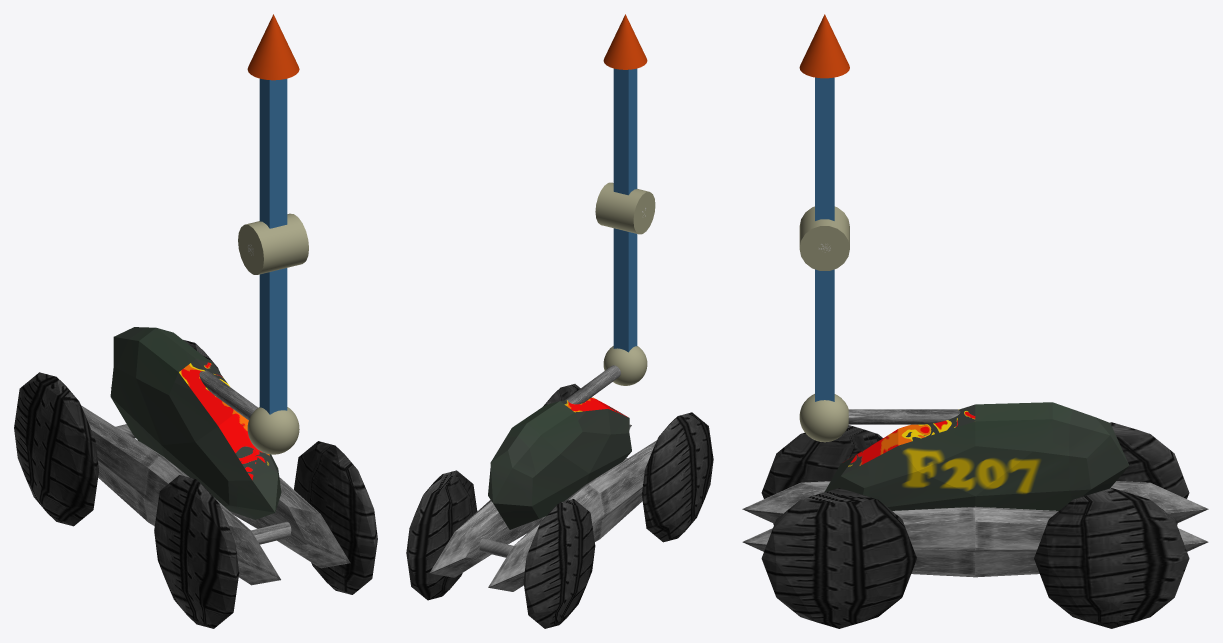
Rendered from MyGru.FBX.
3 renders of one model, left to right at view 1: azimuth 30°, elevation 25°; view 2: azimuth 150°, elevation 25°; view 3: azimuth 270°, elevation 25°, orthographic. The views are drawn at different scales.
Visible parts, largest first — view 1: cabin, back_right_wheel, front_right_wheel, front_left_wheel, right_chassis, trunk2, trunk1, left_chassis, articolation_cylinder, crane_base, hook, support_cylinder (+1 smaller); view 2: cabin, back_right_wheel, front_right_wheel, back_left_wheel, right_chassis, left_chassis, trunk2, trunk1, articolation_cylinder, hook, crane_base, support_cylinder (+1 smaller); view 3: cabin, back_left_wheel, front_left_wheel, left_chassis, front_right_wheel, back_right_wheel, right_chassis, trunk2, articolation_cylinder, trunk1, crane_base, hook (+1 smaller).
Part boxes in pixels (bbox=[...]): cabin: bbox=[110, 327, 281, 519]; back_right_wheel: bbox=[14, 372, 98, 526]; front_right_wheel: bbox=[154, 475, 239, 628]; front_left_wheel: bbox=[294, 441, 377, 594]; right_chassis: bbox=[81, 405, 280, 585]; trunk2: bbox=[259, 78, 287, 228]; trunk1: bbox=[259, 268, 287, 414]; left_chassis: bbox=[111, 387, 350, 568]; articolation_cylinder: bbox=[238, 213, 308, 274]; crane_base: bbox=[247, 407, 299, 454]; hook: bbox=[247, 14, 299, 80]; support_cylinder: bbox=[199, 370, 257, 420]; cabin: bbox=[488, 397, 631, 529]; back_right_wheel: bbox=[523, 499, 595, 628]; front_right_wheel: bbox=[641, 412, 713, 542]; back_left_wheel: bbox=[406, 470, 477, 600]; right_chassis: bbox=[488, 440, 656, 591]; left_chassis: bbox=[429, 424, 631, 577]; trunk2: bbox=[613, 68, 637, 195]; trunk1: bbox=[613, 228, 637, 352]; articolation_cylinder: bbox=[595, 182, 655, 234]; hook: bbox=[603, 14, 647, 69]; crane_base: bbox=[603, 346, 647, 385]; support_cylinder: bbox=[564, 365, 620, 404]; cabin: bbox=[824, 402, 1129, 510]; back_left_wheel: bbox=[1034, 488, 1189, 628]; front_left_wheel: bbox=[761, 488, 916, 628]; left_chassis: bbox=[742, 506, 1208, 577]; front_right_wheel: bbox=[761, 425, 882, 524]; back_right_wheel: bbox=[1110, 422, 1189, 524]; right_chassis: bbox=[742, 481, 1208, 523]; trunk2: bbox=[815, 77, 834, 220]; articolation_cylinder: bbox=[799, 206, 849, 270]; trunk1: bbox=[815, 269, 834, 401]; crane_base: bbox=[799, 394, 848, 442]; hook: bbox=[799, 14, 849, 78].
Bounding box in the file's own units: 0.9746 × 3.25 × 2.36.
8 materials, 5 textured.
